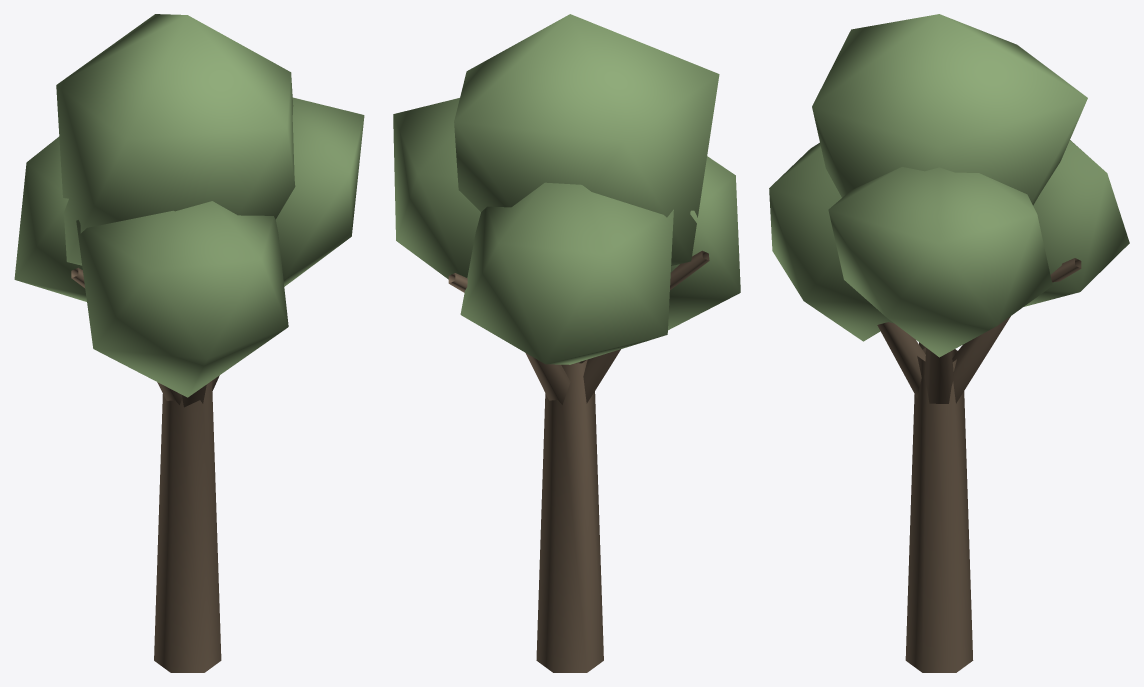
Rendered from elm.glb.
The picture shows the model from 3 angles, left to right: view 1: azimuth 30°, elevation 25°; view 2: azimuth 150°, elevation 25°; view 3: azimuth 270°, elevation 25°; orthographic projection.
Visible parts, largest first — view 1: Leaves, Trunk; view 2: Leaves, Trunk; view 3: Leaves, Trunk.
Boxes of the visible parts, bbox=[...] form: Leaves: bbox=[14, 14, 364, 397]; Trunk: bbox=[71, 267, 221, 672]; Leaves: bbox=[393, 14, 740, 364]; Trunk: bbox=[448, 250, 709, 672]; Leaves: bbox=[769, 14, 1129, 357]; Trunk: bbox=[877, 258, 1081, 672].
Bounding box in the file's own units: 0.5347 × 1.06 × 0.5344.
